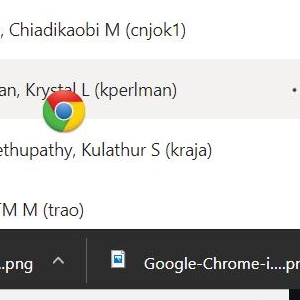chrome: (42, 89, 86, 133)
